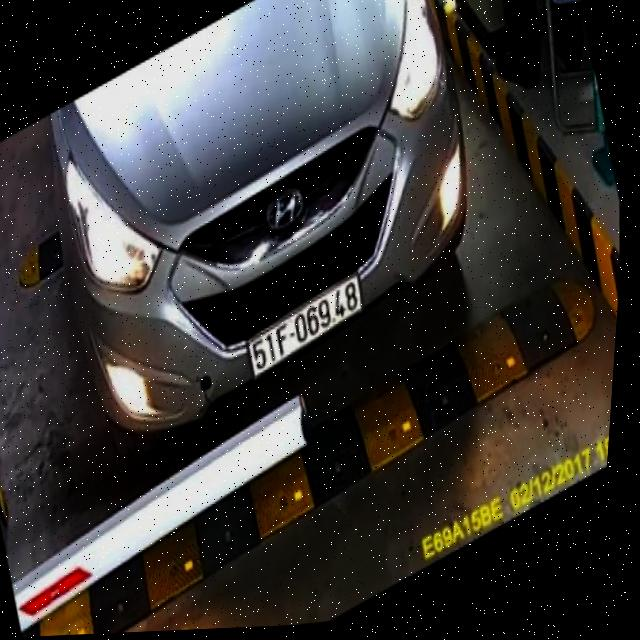car: (18, 0, 495, 447)
plate: (238, 269, 373, 381)
